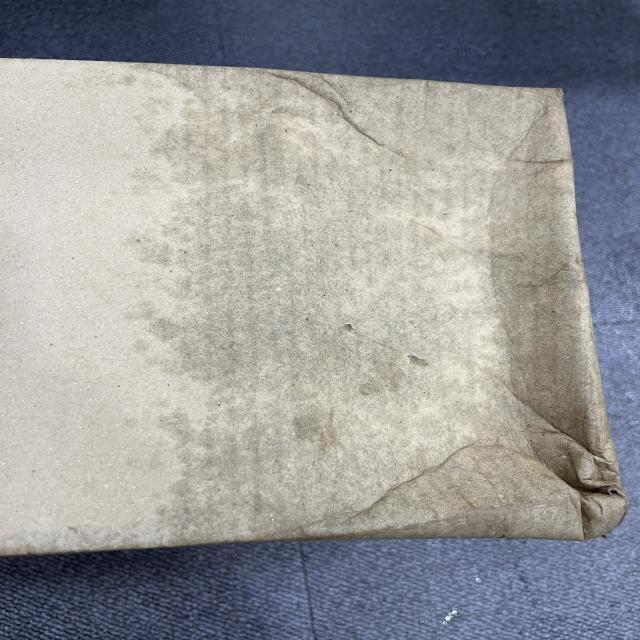wet: (152, 73, 594, 537)
